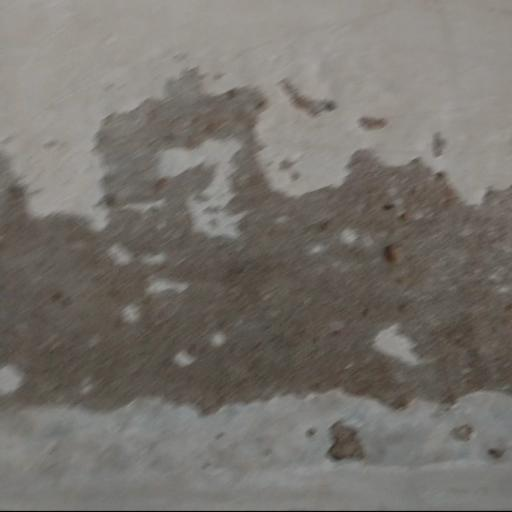peeling: (0, 66, 512, 477)
